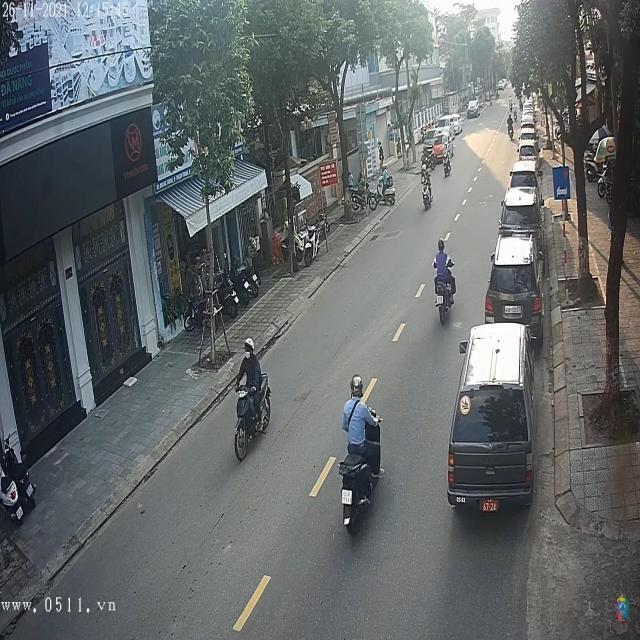car: (449, 324, 534, 510), (486, 239, 542, 329), (499, 190, 542, 236), (506, 161, 538, 199), (517, 142, 538, 163), (518, 124, 537, 143), (468, 99, 481, 117)
motorcycle: (232, 371, 274, 464), (339, 458, 380, 535), (435, 260, 458, 326), (421, 176, 434, 215)
